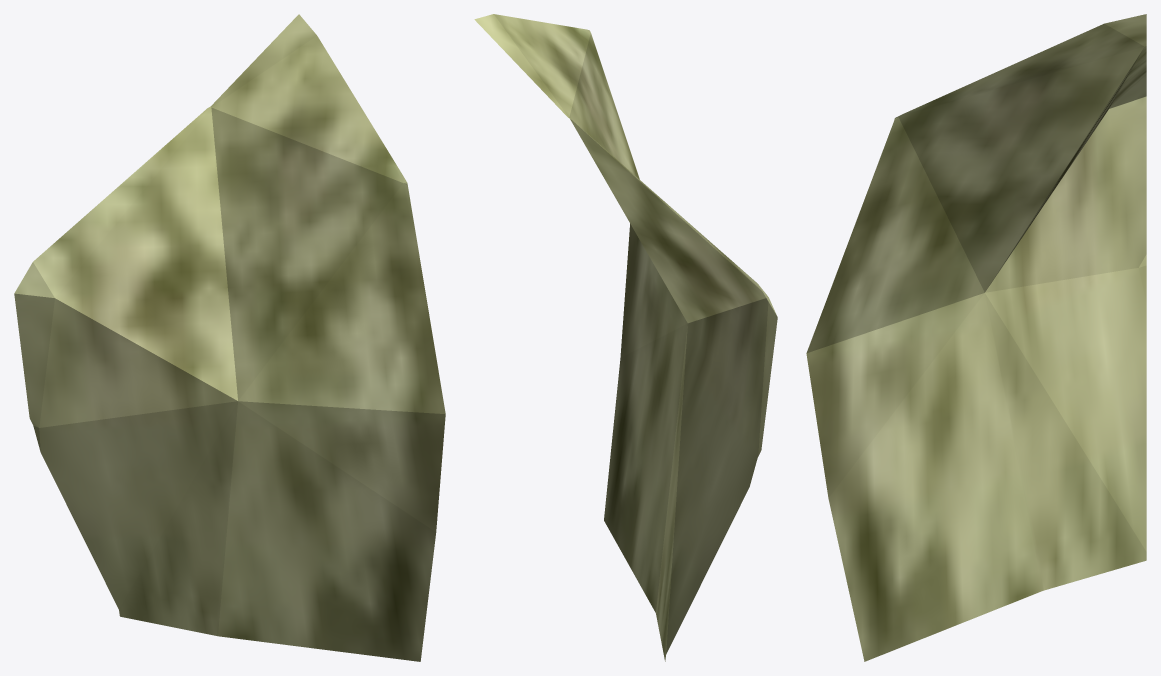
The picture shows the model from 3 angles, left to right: view 1: azimuth 30°, elevation 25°; view 2: azimuth 150°, elevation 25°; view 3: azimuth 270°, elevation 25°; orthographic projection. The views are drawn at different scales.
Bounding box in the file's own units: 0.4213 × 0.7902 × 0.3759.
Materials: 1 (1 with a texture image).
